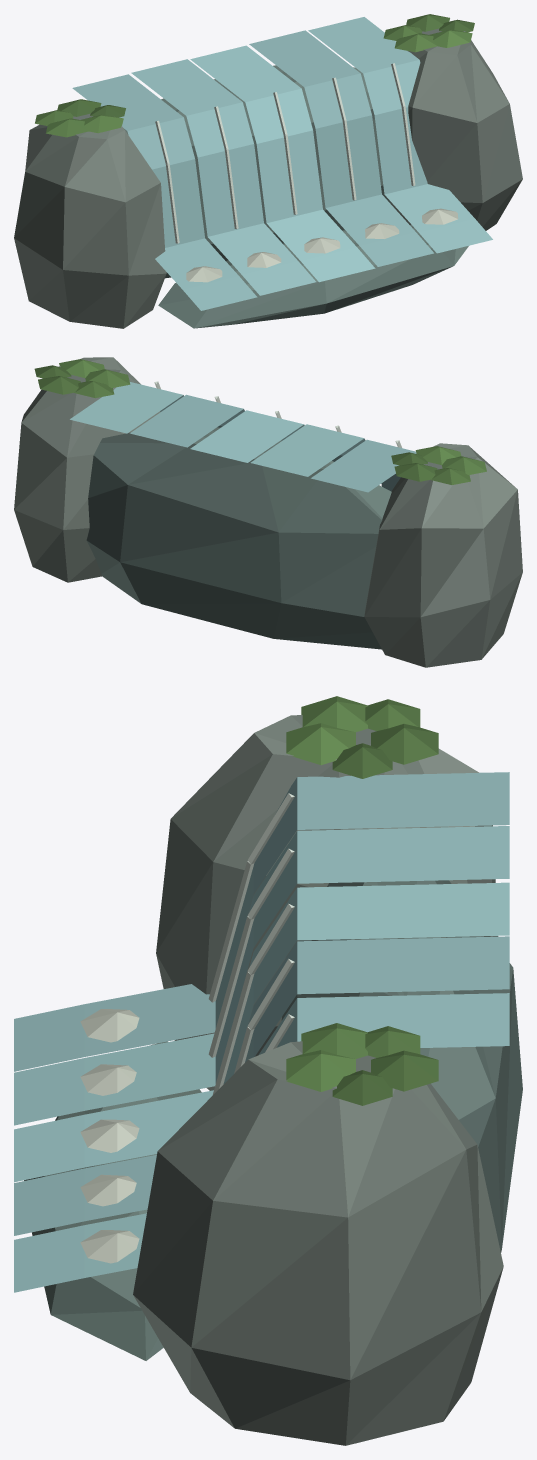
The model's file is small_waterfall.glb.
The picture shows the model from 3 angles, top to bottom: view 1: azimuth 30°, elevation 25°; view 2: azimuth 150°, elevation 25°; view 3: azimuth 270°, elevation 25°; orthographic projection. The views are drawn at different scales.
Visible parts, largest first — view 1: water, geometry; view 2: geometry, water; view 3: geometry, water.
Boxes of the visible parts, x1,y1,x2,y2 form: water: (72, 17, 492, 310); geometry: (14, 14, 522, 328); geometry: (14, 357, 522, 667); water: (70, 381, 416, 492); geometry: (24, 696, 522, 1445); water: (14, 772, 509, 1292).
Size of the model in its own units: 1.93 by 0.7123 by 0.9346.
